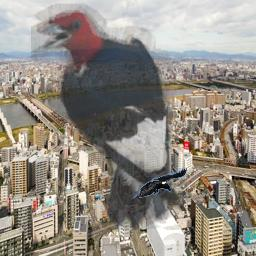Crow: (133, 167, 187, 198)
Woodpecker: (31, 1, 192, 230)
